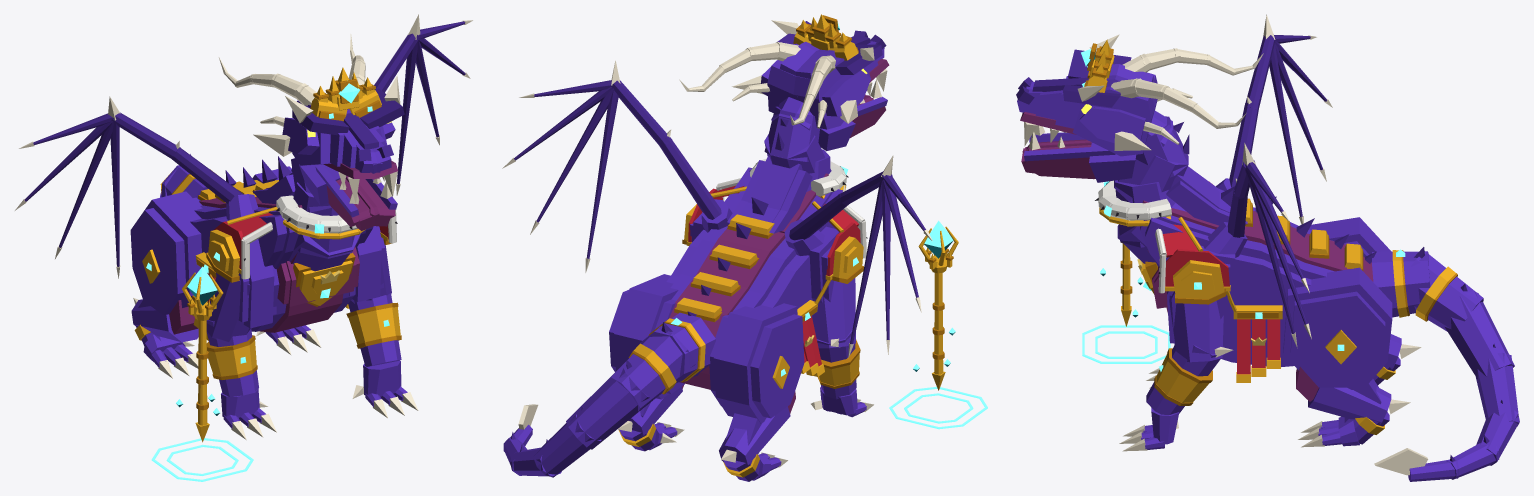
File: Boss10_Dragon_parts.fbx
3 views of the same model, side by side, from view 1: azimuth 30°, elevation 25°; view 2: azimuth 150°, elevation 25°; view 3: azimuth 270°, elevation 25° (orthographic). The views are drawn at different scales.
Visible parts, largest first — view 1: Body, Head, ThighR, Jaw, ForearmL, ForearmR, Scepter, PawL, Collar, UpperArmR, PawR, HindPawR (+16 smaller); view 2: Body, Head, ThighR, ThighL, Tail2, Tail3, Scepter, Tail1, UpperArmR, ShinR, ForearmR, Neck4 (+24 smaller); view 3: Body, Head, ThighL, Jaw, ForearmL, Tail1, Tail3, Tail2, UpperArmL, ShinL, PauldronL, Tail4 (+26 smaller).
Boxes of the visible parts, x1=… form: Body: x1=190, y1=156, x2=397, y2=332; Head: x1=219, y1=34, x2=404, y2=203; ThighR: x1=130, y1=191, x2=202, y2=334; Jaw: x1=299, y1=164, x2=397, y2=230; ForearmL: x1=346, y1=293, x2=401, y2=366; ForearmR: x1=206, y1=320, x2=258, y2=396; Scepter: x1=182, y1=266, x2=223, y2=442; PawL: x1=352, y1=360, x2=418, y2=417; Collar: x1=276, y1=195, x2=365, y2=239; UpperArmR: x1=206, y1=273, x2=250, y2=341; PawR: x1=221, y1=389, x2=276, y2=439; HindPawR: x1=143, y1=334, x2=198, y2=378; Body: x1=666, y1=156, x2=867, y2=389; Head: x1=679, y1=14, x2=889, y2=130; ThighR: x1=709, y1=303, x2=804, y2=423; ThighL: x1=609, y1=274, x2=684, y2=399; Tail2: x1=610, y1=322, x2=695, y2=411; Tail3: x1=566, y1=360, x2=653, y2=449; Scepter: x1=918, y1=220, x2=958, y2=390; Tail1: x1=639, y1=312, x2=715, y2=382; UpperArmR: x1=812, y1=278, x2=855, y2=348; ShinR: x1=719, y1=406, x2=790, y2=468; ForearmR: x1=816, y1=329, x2=860, y2=399; Neck4: x1=764, y1=106, x2=819, y2=161; Body: x1=1137, y1=166, x2=1376, y2=366; Head: x1=1016, y1=34, x2=1263, y2=156; ThighL: x1=1283, y1=267, x2=1392, y2=401; Jaw: x1=1021, y1=125, x2=1136, y2=182; ForearmL: x1=1146, y1=344, x2=1233, y2=414; Tail1: x1=1372, y1=249, x2=1430, y2=317; Tail3: x1=1445, y1=283, x2=1514, y2=379; Tail2: x1=1411, y1=247, x2=1483, y2=331; UpperArmL: x1=1169, y1=295, x2=1223, y2=362; ShinL: x1=1308, y1=379, x2=1391, y2=424; PauldronL: x1=1173, y1=260, x2=1225, y2=304; Tail4: x1=1476, y1=344, x2=1519, y2=426.
Size of the model in its own units: 46.76 by 37.02 by 45.28.
